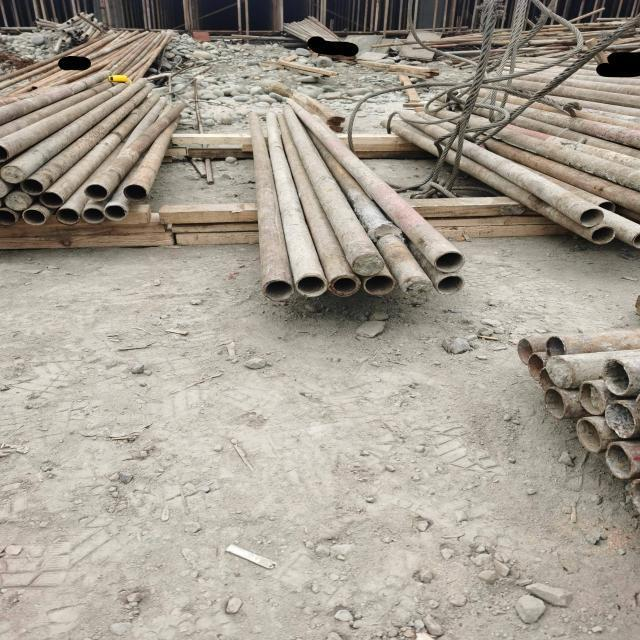pipe: (598, 356, 634, 396), (604, 398, 638, 438), (604, 440, 634, 480), (544, 354, 577, 388), (575, 416, 603, 453), (537, 387, 567, 420), (576, 382, 606, 414), (432, 250, 468, 274), (351, 252, 385, 276), (294, 274, 326, 299), (263, 278, 296, 302), (360, 274, 396, 296), (329, 274, 361, 298), (435, 274, 467, 296), (401, 278, 434, 299), (524, 352, 546, 383), (512, 336, 534, 366), (590, 226, 618, 248), (544, 333, 568, 357), (579, 206, 605, 226), (537, 368, 558, 392), (83, 183, 109, 202), (1, 164, 26, 183), (54, 208, 80, 226), (5, 193, 32, 210), (122, 184, 147, 202), (82, 207, 105, 226), (20, 178, 44, 196), (38, 191, 63, 208), (23, 210, 47, 227), (104, 205, 128, 222), (594, 198, 622, 212), (0, 210, 18, 226), (630, 226, 640, 252), (0, 181, 10, 197), (2, 143, 8, 167)
